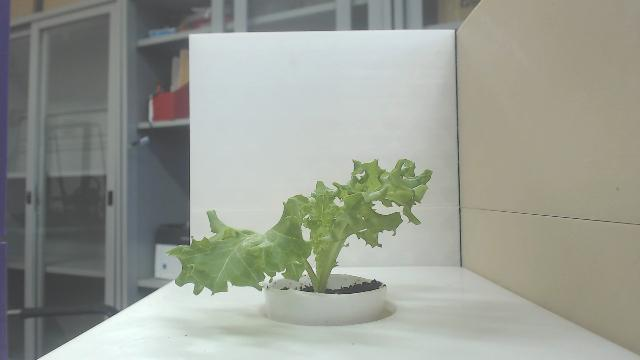Vegetative Stage: (165, 155, 435, 297)
